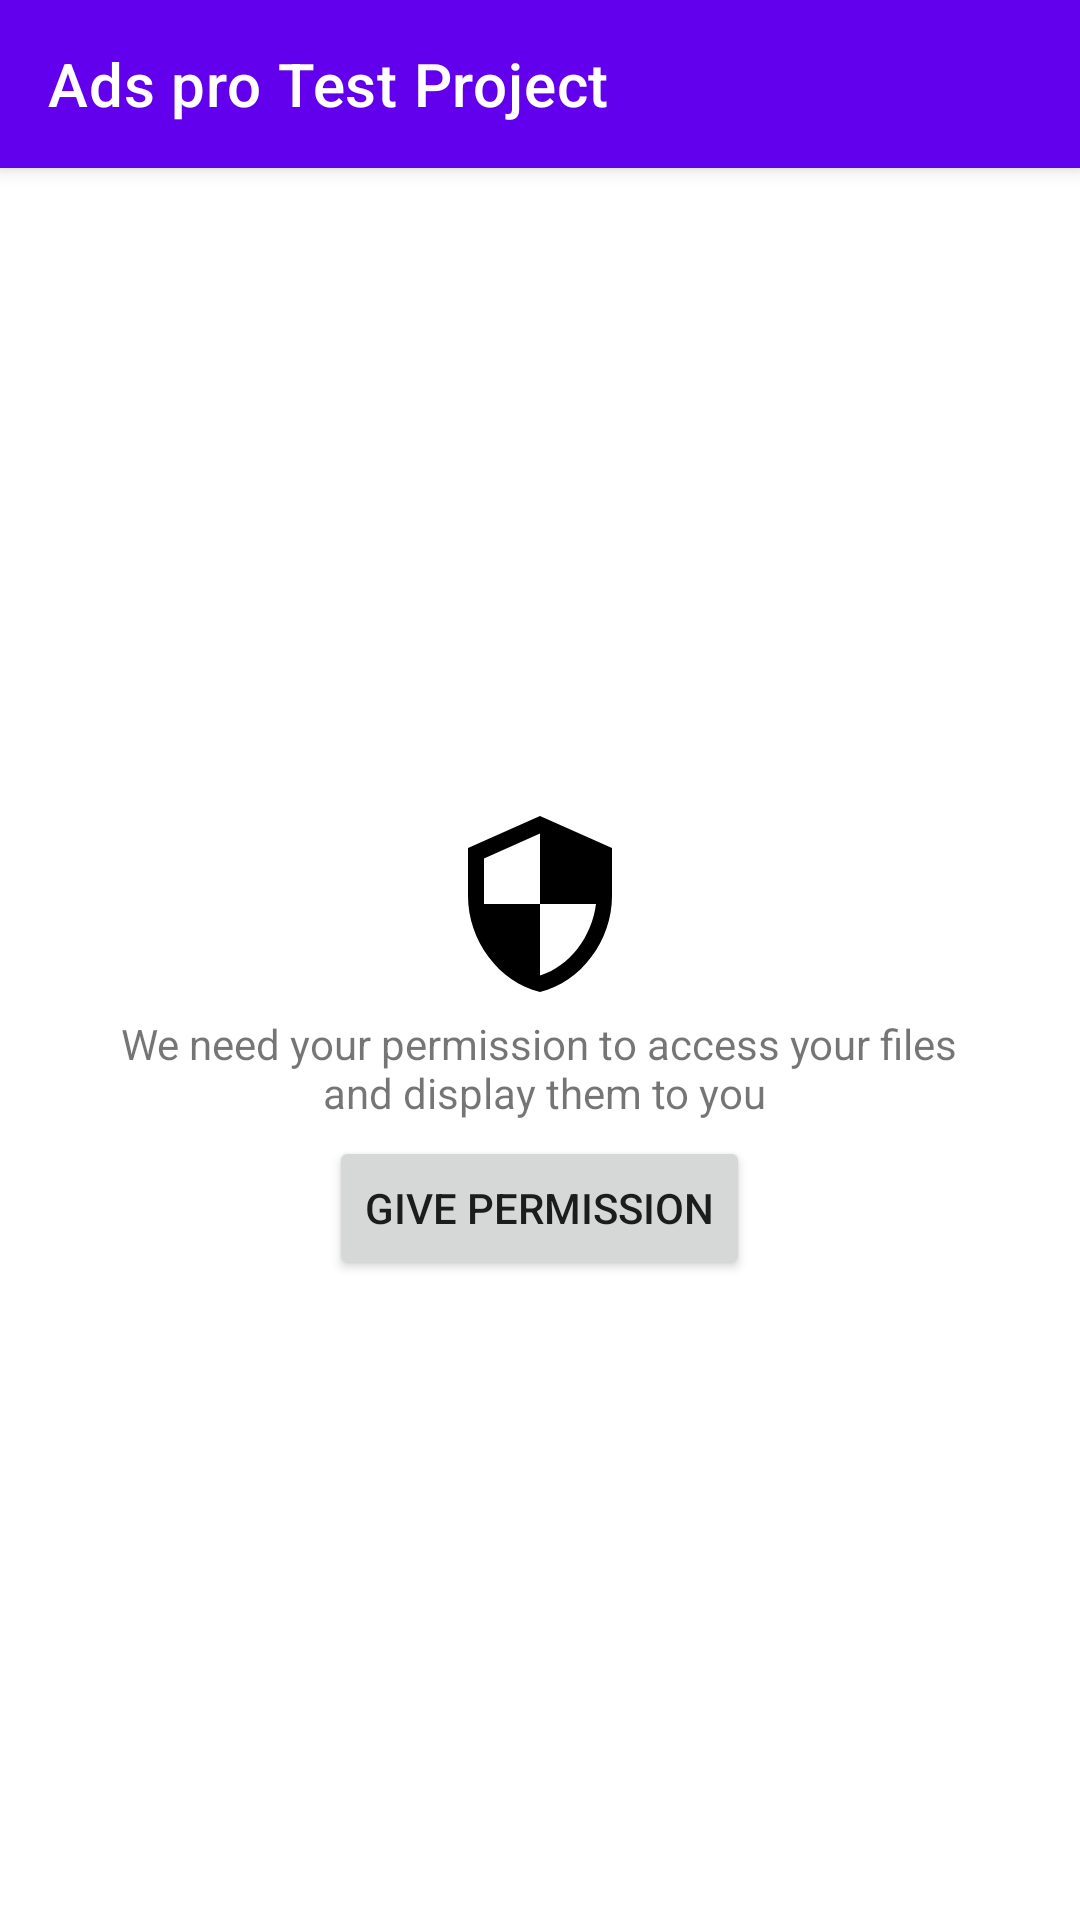

Icons on this 1080×1920 Android screen, each with the point to tap as (x=x, y=y):
security: (x=540, y=904)
